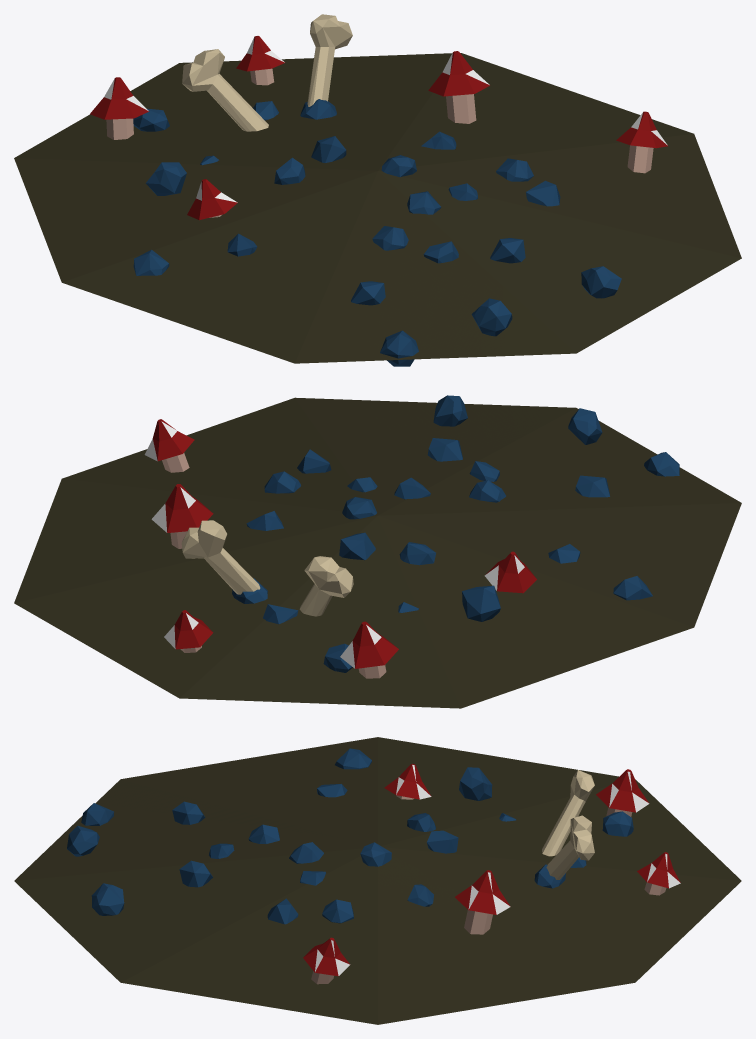
File: Grave 8.fbx
The picture shows the model from 3 angles, top to bottom: view 1: azimuth 30°, elevation 25°; view 2: azimuth 150°, elevation 25°; view 3: azimuth 270°, elevation 25°; orthographic projection. The views are drawn at different scales.
Visible parts, largest first — view 1: Cylinder.001; view 2: Cylinder.001; view 3: Cylinder.001.
Boxes of the visible parts, box(x1,y1,x2,y2) form: Cylinder.001: box(14, 14, 741, 366); Cylinder.001: box(14, 395, 741, 708); Cylinder.001: box(14, 737, 741, 1024).
Bounding box in the file's own units: 605 × 121 × 658.
